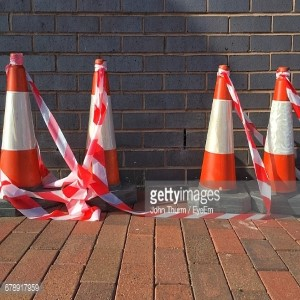traffic cone: (62, 58, 138, 212), (1, 50, 64, 218), (186, 64, 253, 214), (242, 66, 300, 215)
